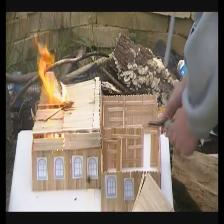fire: (35, 43, 63, 116)
